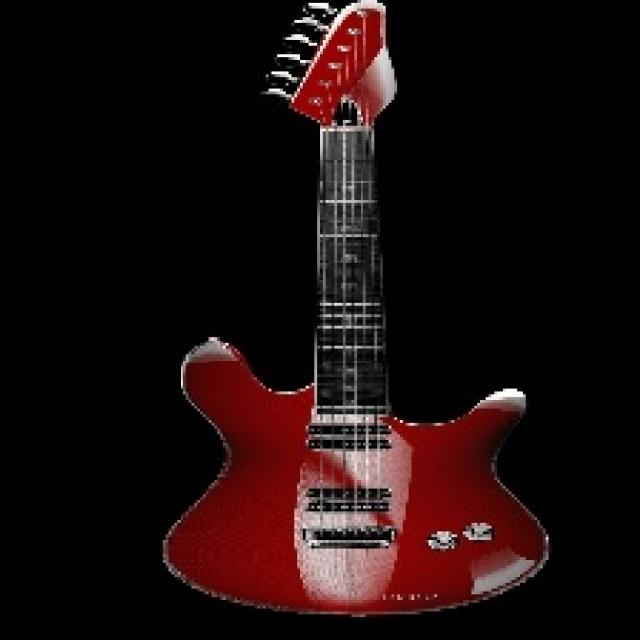guitar: (165, 2, 552, 619)
